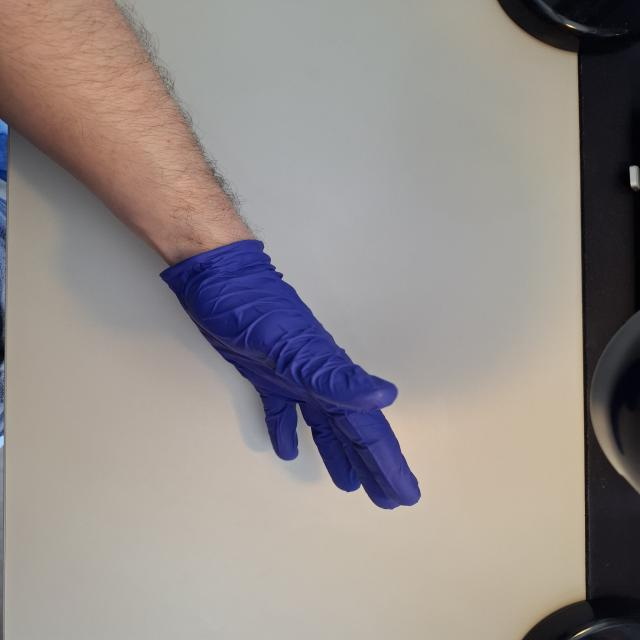glove_on: (157, 236, 426, 513)
